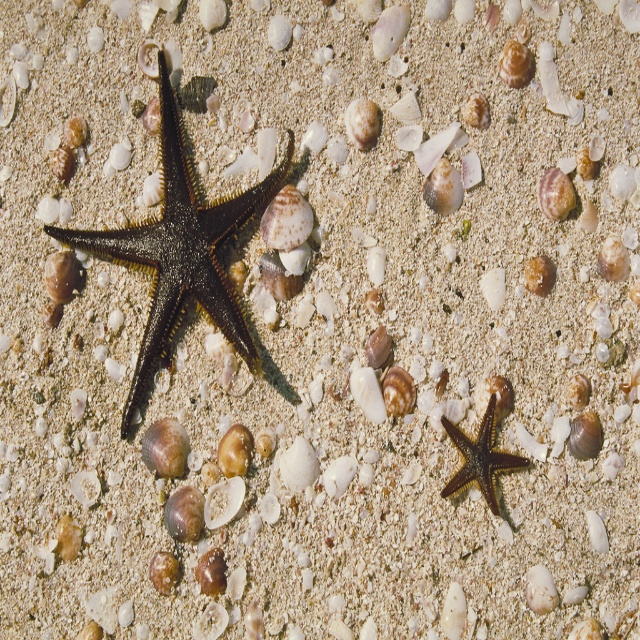Starfish: (43, 49, 295, 441), (441, 393, 534, 522)
